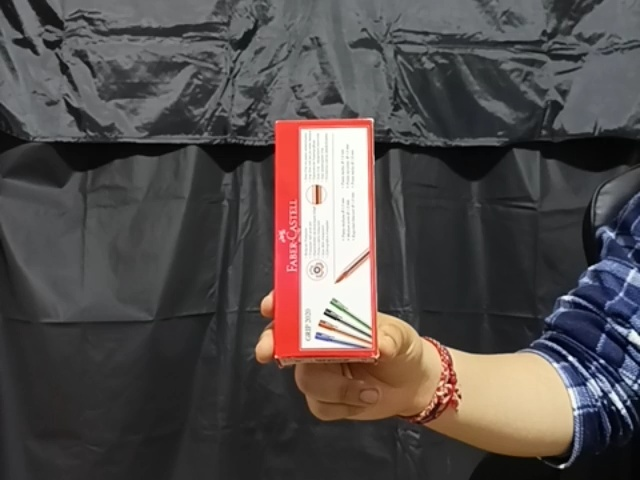xd: (273, 116, 379, 363)
